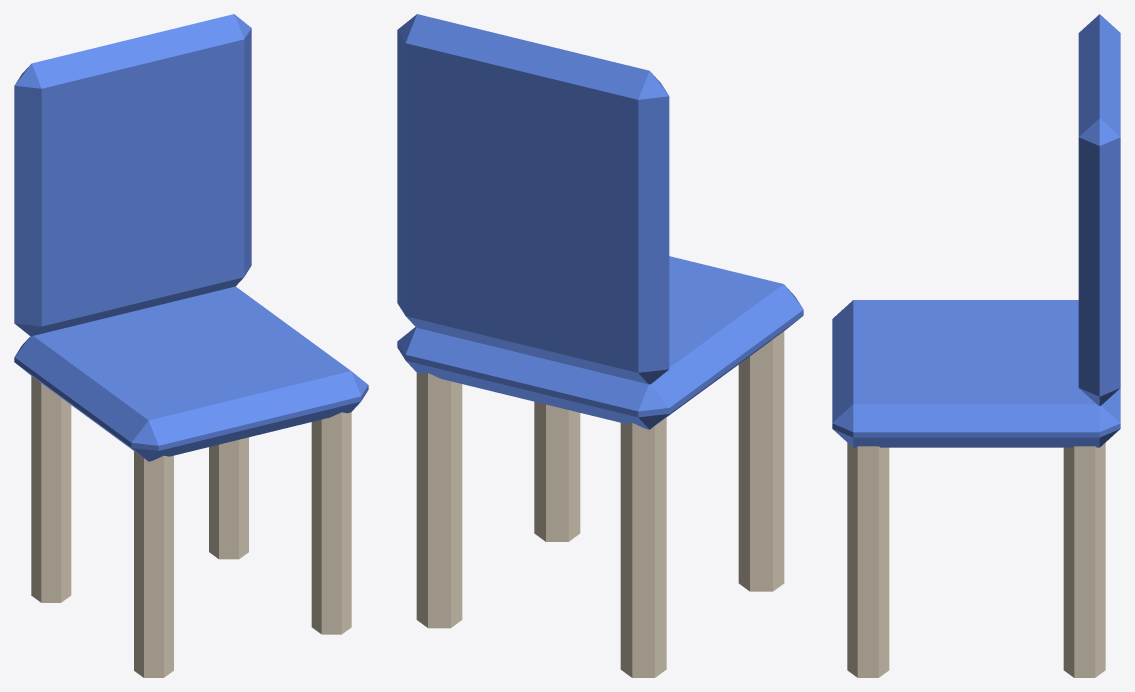
3 renders of one model, left to right at view 1: azimuth 30°, elevation 25°; view 2: azimuth 150°, elevation 25°; view 3: azimuth 270°, elevation 25°, orthographic. The views are drawn at different scales.
Visible parts, largest first — view 1: Backrest, Seat, Leg.002, Leg, Leg.001, Leg.003; view 2: Backrest, Seat, Leg.001, Leg.003, Leg, Leg.002; view 3: Seat, Backrest, Leg.002, Leg.003.
Part boxes in pixels (bbox=[...]): Backrest: bbox=[14, 14, 251, 336]; Seat: bbox=[14, 286, 368, 461]; Leg.002: bbox=[311, 412, 351, 634]; Leg: bbox=[134, 451, 173, 677]; Leg.001: bbox=[31, 376, 71, 602]; Leg.003: bbox=[209, 437, 248, 559]; Backrest: bbox=[397, 14, 669, 384]; Seat: bbox=[397, 256, 803, 429]; Leg.001: bbox=[620, 417, 666, 677]; Leg.003: bbox=[416, 373, 462, 628]; Leg: bbox=[738, 331, 784, 591]; Leg.002: bbox=[534, 401, 580, 541]; Seat: bbox=[832, 300, 1120, 447]; Backrest: bbox=[1078, 14, 1120, 405]; Leg.002: bbox=[847, 443, 889, 677]; Leg.003: bbox=[1063, 443, 1105, 677].
Bounding box in the file's own units: 48 × 102 × 48.
